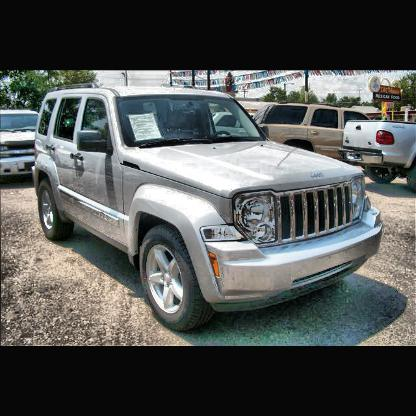Jeep Liberty SUV 2012: (31, 82, 386, 336)
